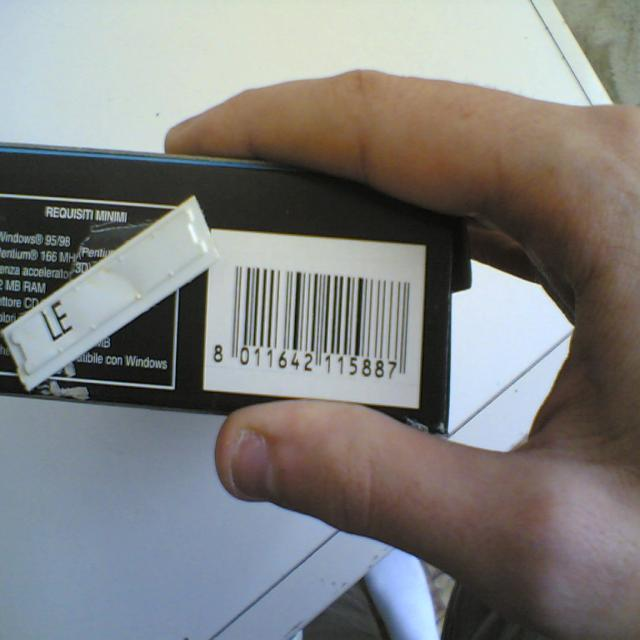barcode: (204, 230, 426, 408)
